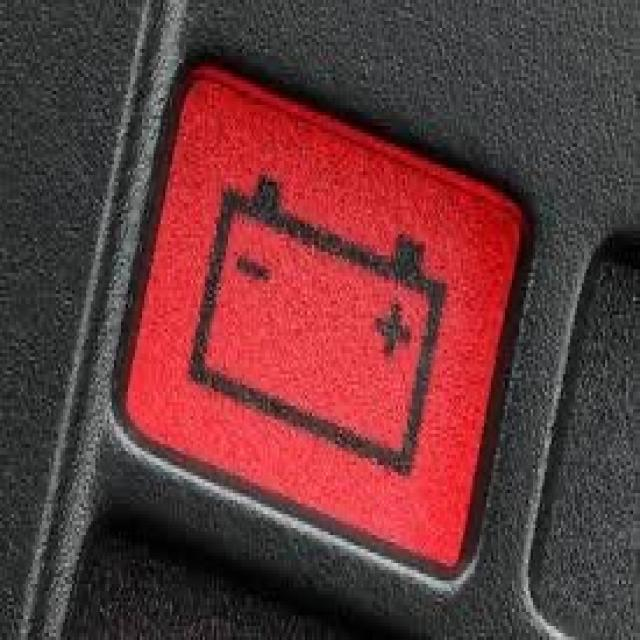kontrolka: (188, 155, 475, 496)
